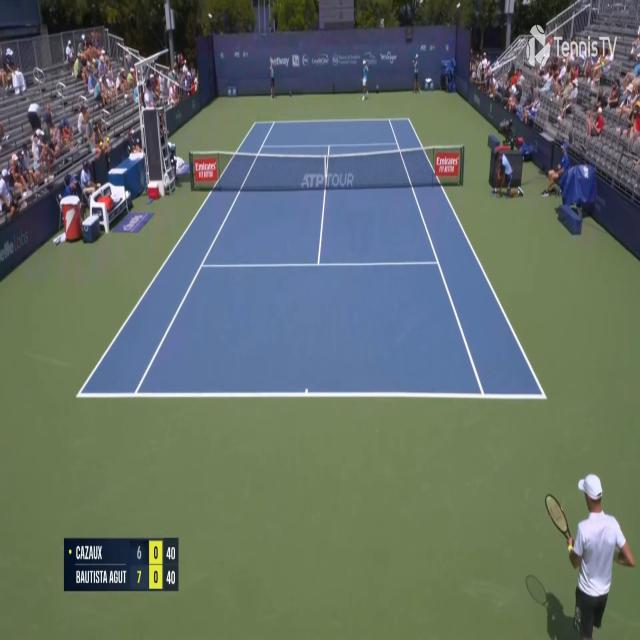tennis-player: (539, 468, 636, 640), (360, 59, 370, 102)
